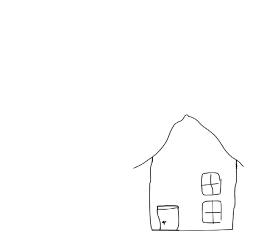bottom_placed_house: (1, 0, 260, 236)
closed_window: (194, 168, 229, 198), (197, 197, 230, 226)
door: (154, 198, 186, 234)
single_line_roof: (123, 113, 255, 170)
small_house: (1, 1, 260, 236)
wall: (144, 152, 244, 236)
